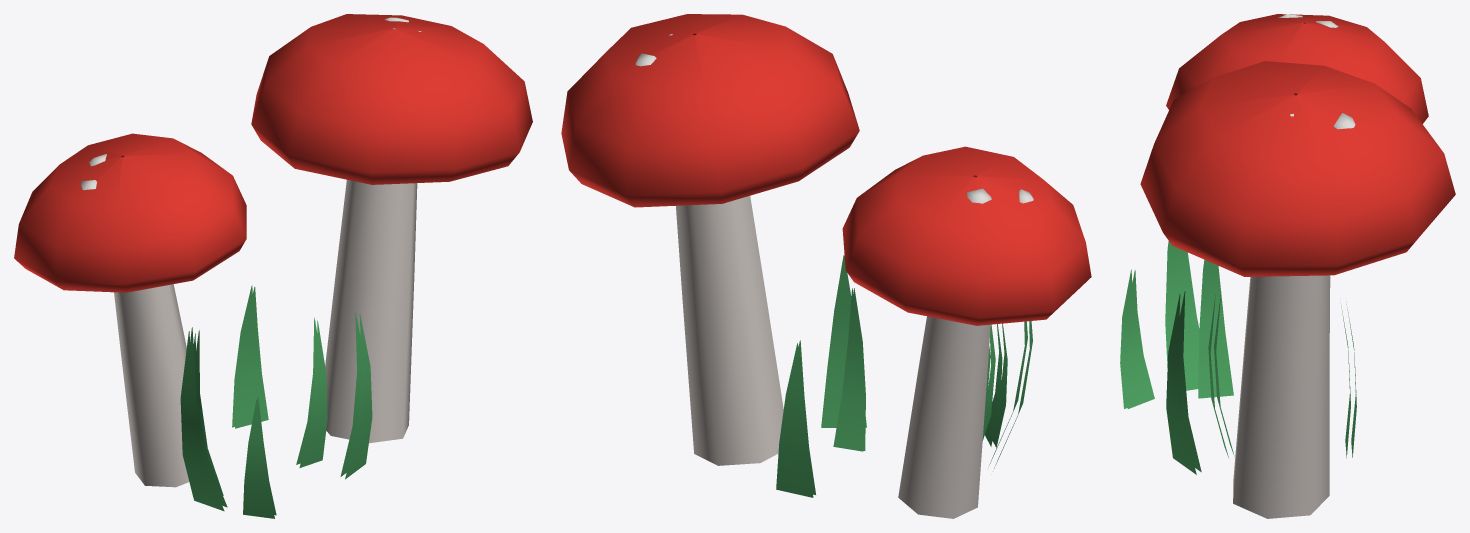
The model's file is ing_fly_agaric.gltf.
3 renders of one model, left to right at view 1: azimuth 30°, elevation 25°; view 2: azimuth 150°, elevation 25°; view 3: azimuth 270°, elevation 25°, orthographic. The views are drawn at different scales.
Parts seen in each view (by area): view 1: ing_fly_agaric; view 2: ing_fly_agaric; view 3: ing_fly_agaric.
Boxes of the visible parts, x1,y1,x2,y2 form: ing_fly_agaric: (14,14,532,518); ing_fly_agaric: (561,14,1091,518); ing_fly_agaric: (1120,14,1455,518).
Size of what is drawn, in the model's own units: 0.3026 by 0.2377 by 0.1702.
